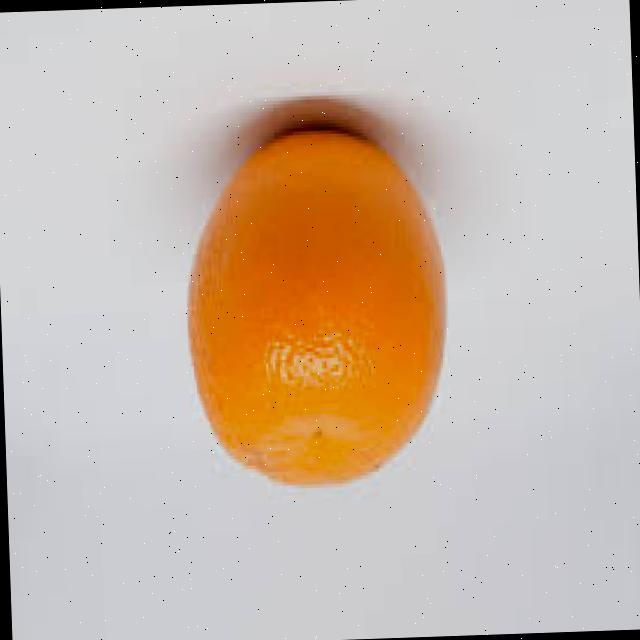Ripe: (174, 115, 456, 498)
